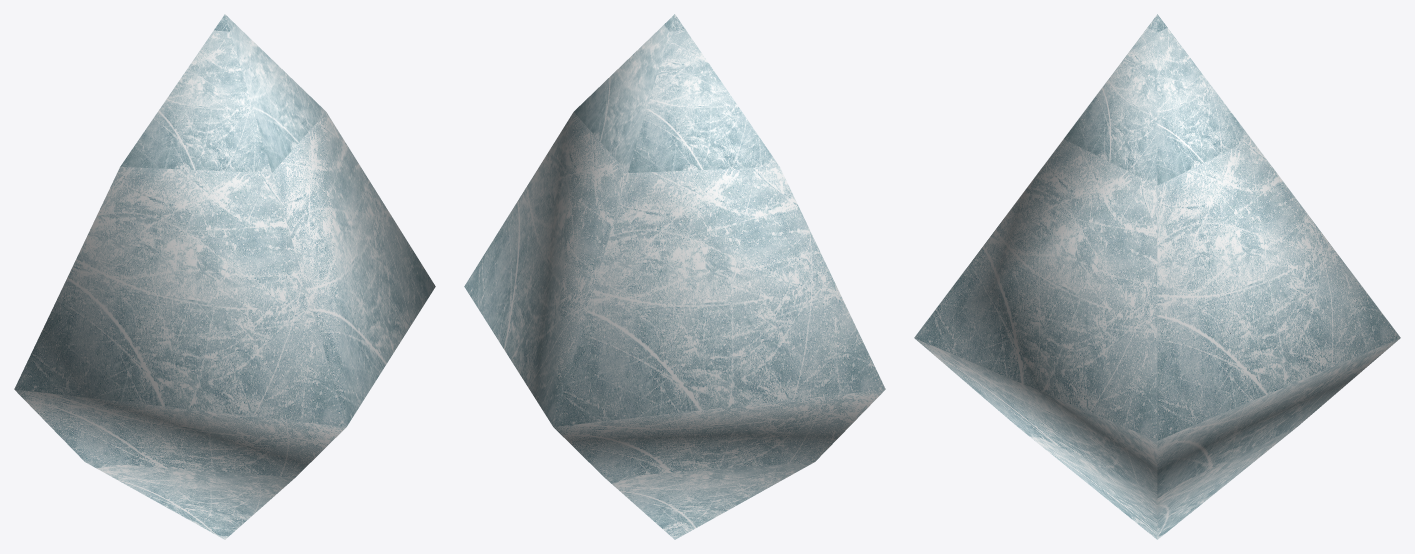
Rendered from seed_white.fbx.
3 renders of one model, left to right at view 1: azimuth 30°, elevation 25°; view 2: azimuth 150°, elevation 25°; view 3: azimuth 270°, elevation 25°, orthographic.
Visible parts, largest first — view 1: GeoSphere005; view 2: GeoSphere005; view 3: GeoSphere005.
Part boxes in pixels (x1,y1,x2,y2): GeoSphere005: (14,14,435,539); GeoSphere005: (464,14,885,539); GeoSphere005: (914,14,1400,539).
Bounding box in the file's own units: 49.24 × 58.7 × 49.24.
1 material, 1 textured.
